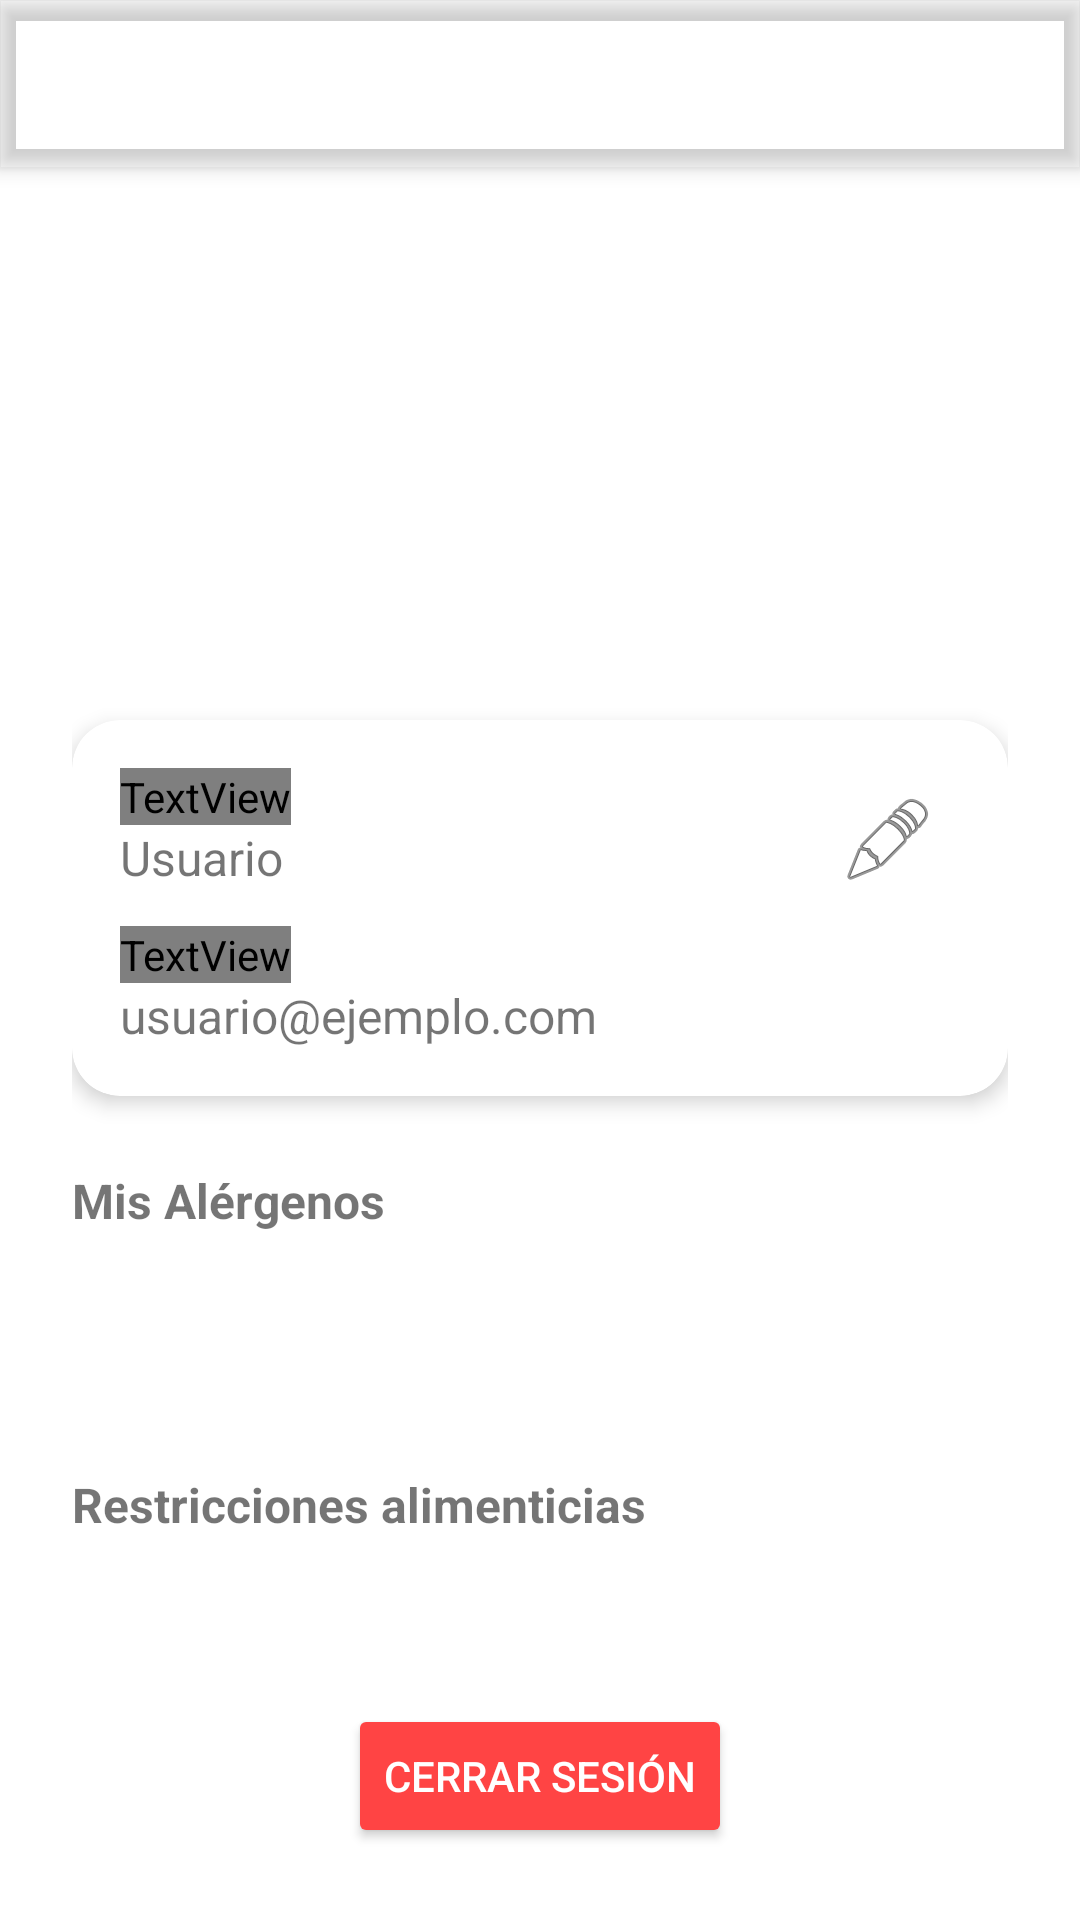

Icon click points for this 1080*1920 phone screenshot, format (x=x, y=y):
Editar perfil: (x=887, y=839)
